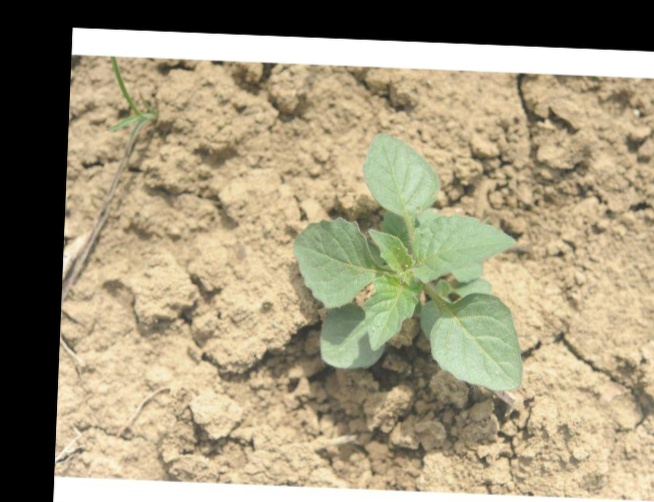nightshade: (295, 131, 527, 387)
